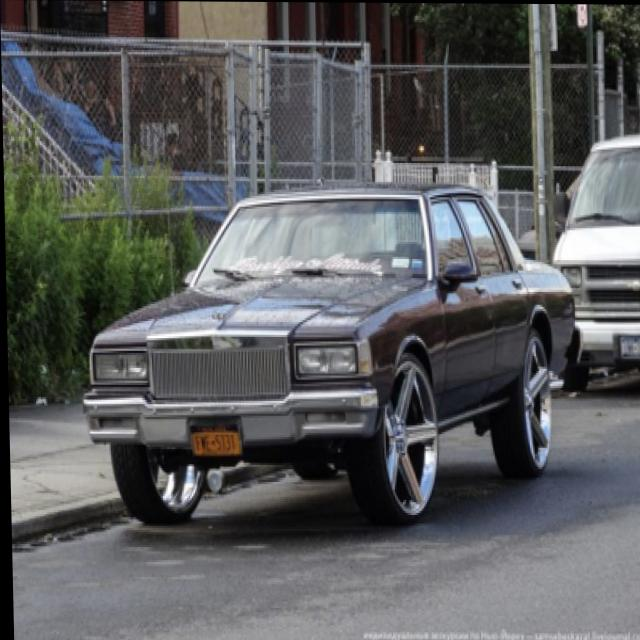licence: (182, 423, 242, 462)
